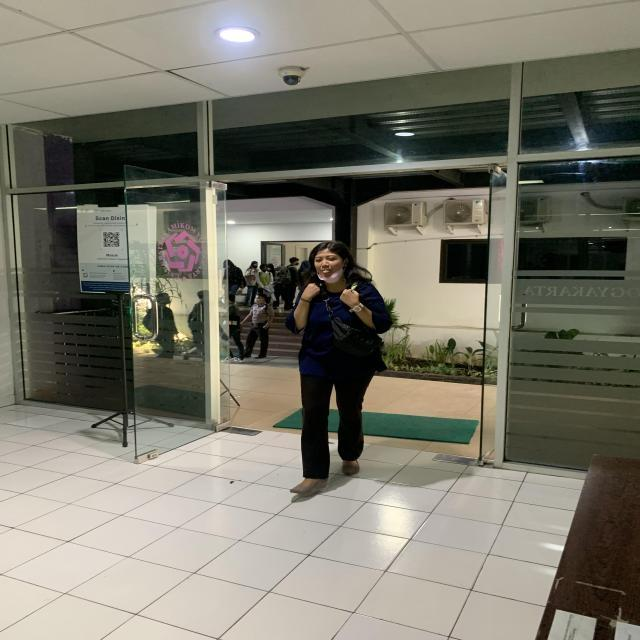hairnet: (313, 261, 350, 284)
